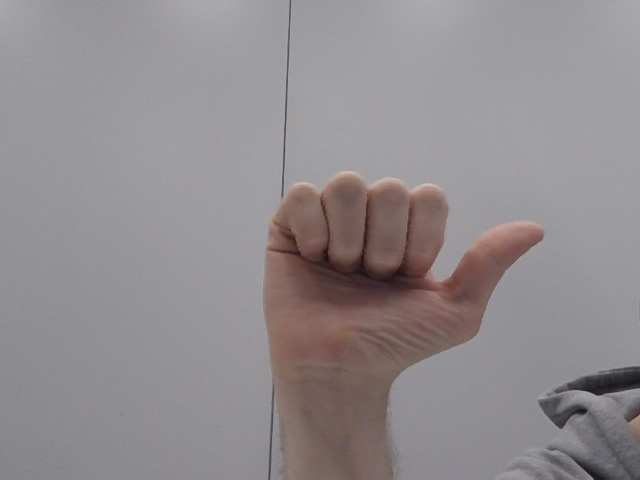left: (225, 149, 558, 390)
